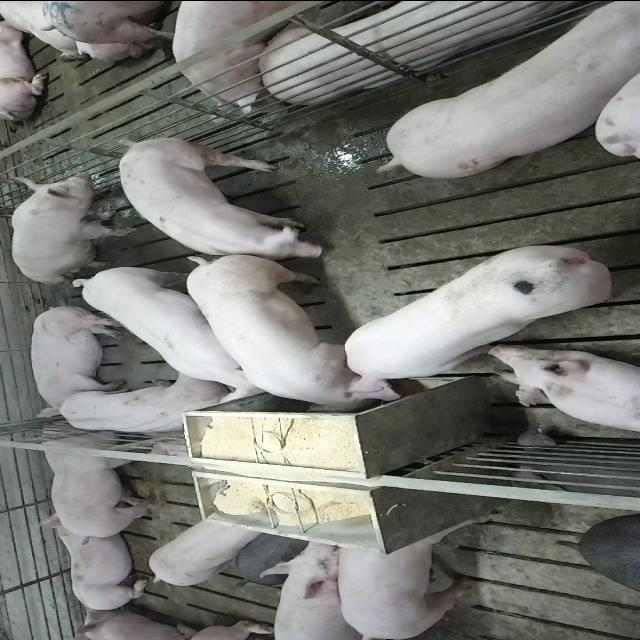Feeding: (338, 242, 618, 400), (176, 257, 382, 420)
Lateral_lying: (251, 0, 608, 100), (28, 302, 128, 418)
Sitting: (8, 170, 136, 284)
Standing: (374, 4, 634, 182), (70, 261, 288, 398), (112, 132, 322, 256), (337, 512, 492, 638), (44, 422, 174, 542), (170, 0, 304, 114), (260, 534, 372, 636), (149, 516, 263, 588)
Sternal_lying: (488, 345, 640, 433), (51, 376, 230, 438), (34, 521, 152, 611)
